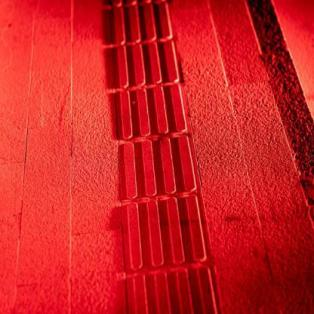Podoctatil: (109, 0, 222, 313)
